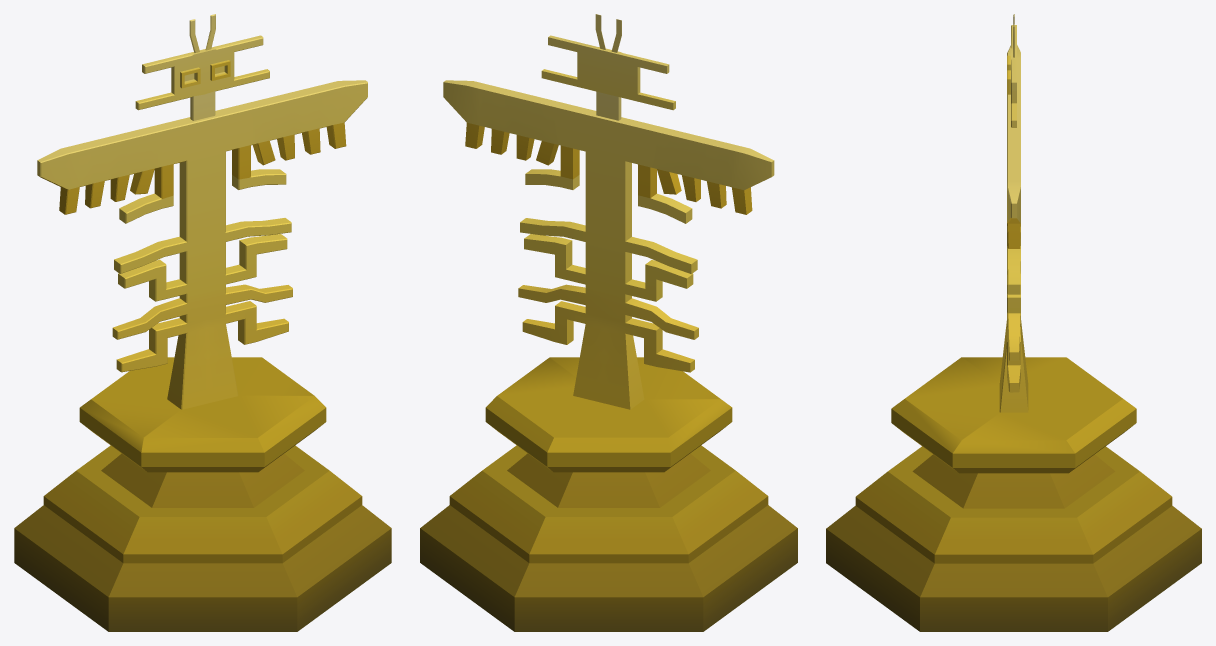
File: MonolitoPancheOk.fbx
The picture shows the model from 3 angles, left to right: view 1: azimuth 30°, elevation 25°; view 2: azimuth 150°, elevation 25°; view 3: azimuth 270°, elevation 25°; orthographic projection.
Visible parts, largest first — view 1: MonolitoPanche; view 2: MonolitoPanche; view 3: MonolitoPanche.
Boxes of the visible parts, x1=… form: MonolitoPanche: x1=14, y1=14, x2=391, y2=631; MonolitoPanche: x1=420, y1=14, x2=797, y2=631; MonolitoPanche: x1=826, y1=14, x2=1201, y2=631.
Bounding box in the file's own units: 1004 × 1594 × 1000.
Materials: 1 (1 with a texture image).
